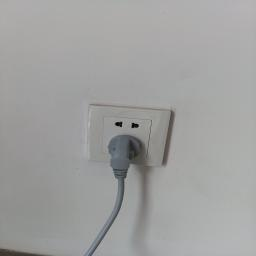outlet: (80, 100, 172, 171)
